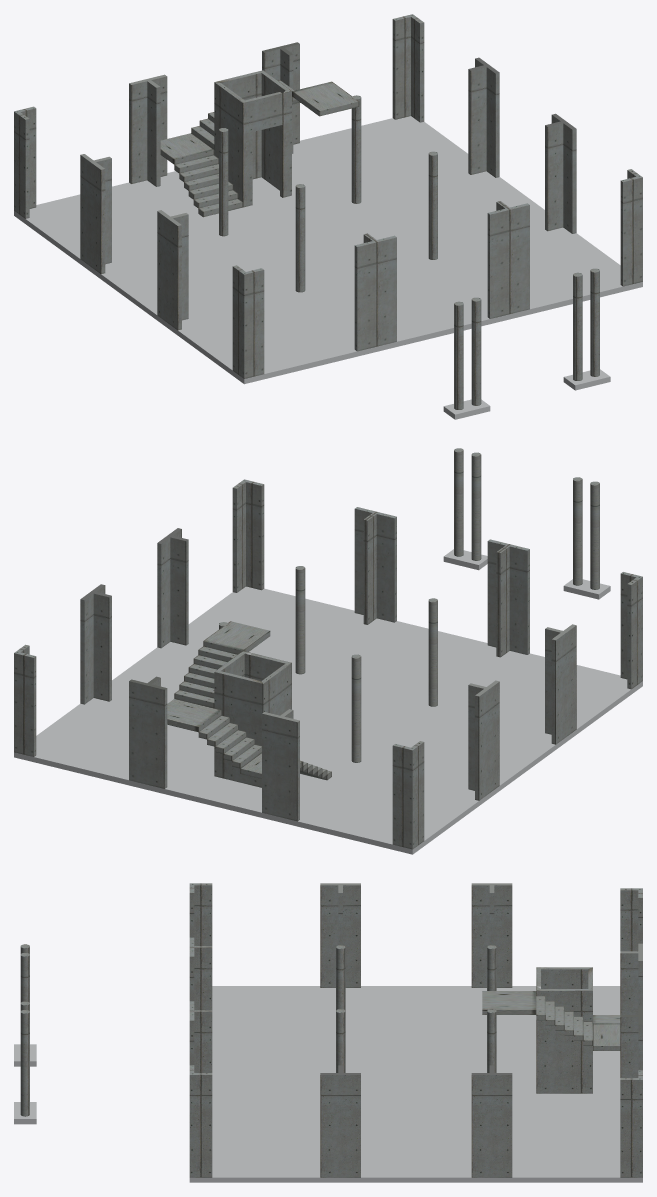
File: 02 EUROPA ground floor.gltf
3 views of the same model, one above another, from view 1: azimuth 30°, elevation 25°; view 2: azimuth 150°, elevation 25°; view 3: azimuth 270°, elevation 25° (orthographic).
Visible parts, largest first — view 1: Group3, Group19, swaetrgdshu_2_2, swaetrgdshu_2_1, Group4, cxgh4, Group15, Group14, Group13, Group16, cxgh1, cxgh3 (+12 smaller); view 2: Group3, Group19, swaetrgdshu_2_1, swaetrgdshu_2_2, Group5, Group4, cxgh3, Group16, Group13, Group14, Group15, cxgh2 (+11 smaller); view 3: Group3, Group19, Group13, Group14, Group15, Group16, cxgh3, cxgh1, swaetrgdshu_2_2, swaetrgdshu_2_1, Group4, cxgh4 (+10 smaller).
Part boxes in pixels (x1,y1,x2,y2): Group3: [14, 116, 642, 384]; Group19: [214, 70, 291, 207]; swaetrgdshu_2_2: [354, 233, 396, 351]; swaetrgdshu_2_1: [487, 201, 529, 318]; Group4: [129, 74, 167, 186]; cxgh4: [232, 265, 264, 378]; Group15: [80, 154, 111, 273]; Group14: [545, 113, 576, 233]; Group13: [468, 57, 499, 177]; Group16: [157, 210, 188, 330]; cxgh1: [392, 14, 424, 122]; cxgh3: [620, 169, 642, 286]; Group3: [14, 586, 642, 854]; Group19: [214, 651, 291, 787]; swaetrgdshu_2_1: [354, 507, 396, 624]; swaetrgdshu_2_2: [487, 539, 529, 657]; Group5: [129, 676, 167, 788]; Group4: [262, 709, 299, 821]; cxgh3: [232, 479, 264, 592]; Group16: [545, 624, 576, 744]; Group13: [80, 584, 111, 704]; Group14: [157, 528, 188, 648]; Group15: [468, 680, 499, 800]; cxgh2: [392, 741, 424, 849]; Group3: [189, 986, 642, 1182]; Group19: [536, 967, 592, 1093]; Group13: [471, 1065, 512, 1177]; Group14: [320, 1065, 360, 1177]; Group15: [471, 883, 512, 987]; Group16: [320, 883, 360, 987]; cxgh3: [189, 1065, 212, 1177]; cxgh1: [620, 1070, 642, 1177]; swaetrgdshu_2_2: [189, 937, 212, 1009]; swaetrgdshu_2_1: [189, 1001, 212, 1072]; Group4: [620, 943, 642, 1014]; cxgh4: [189, 883, 212, 945].
Bounding box in the file's own units: 480 × 126 × 666.
Materials: 44 (41 with a texture image).
